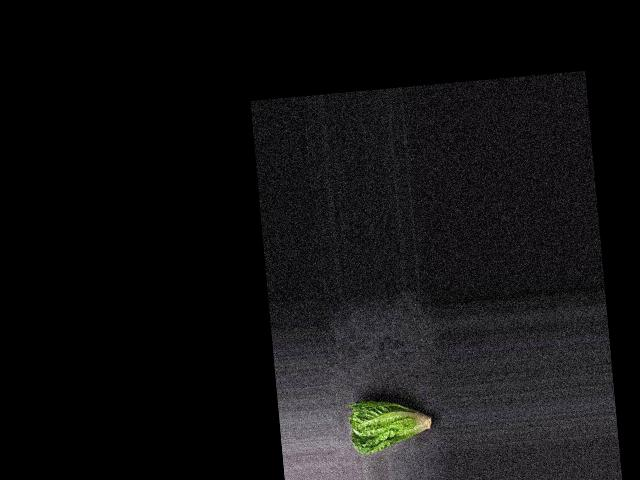lettuce: (323, 310, 432, 422)
